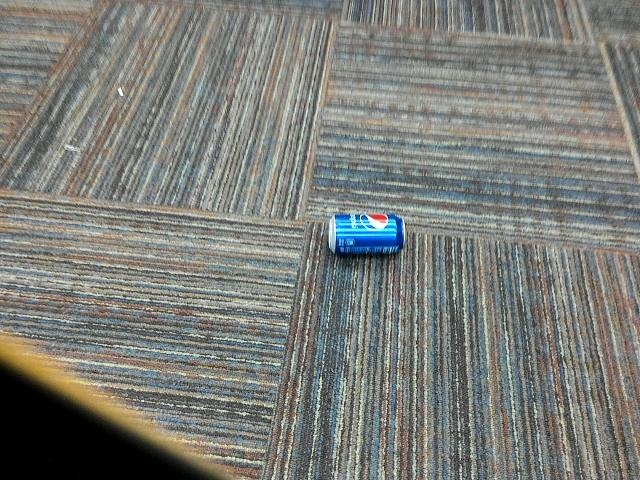can: (308, 195, 416, 261)
